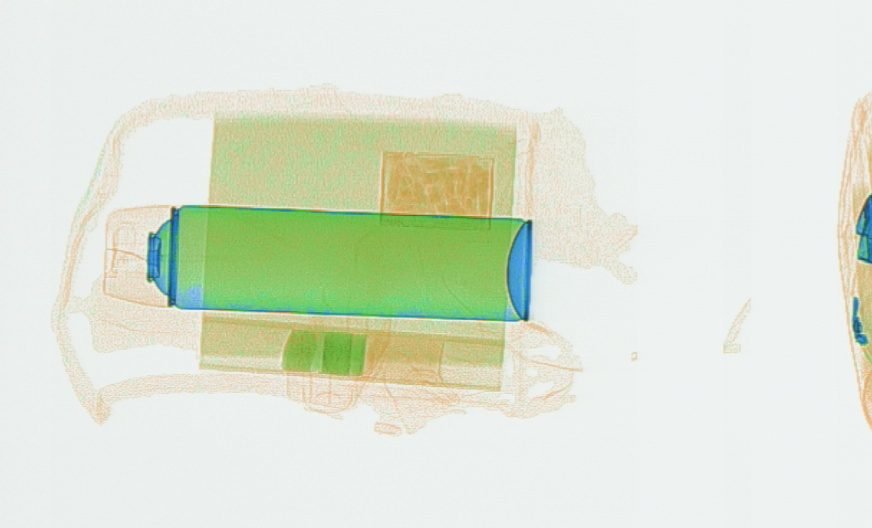firecrackers: (195, 315, 502, 389)
pressure: (99, 203, 532, 322)
